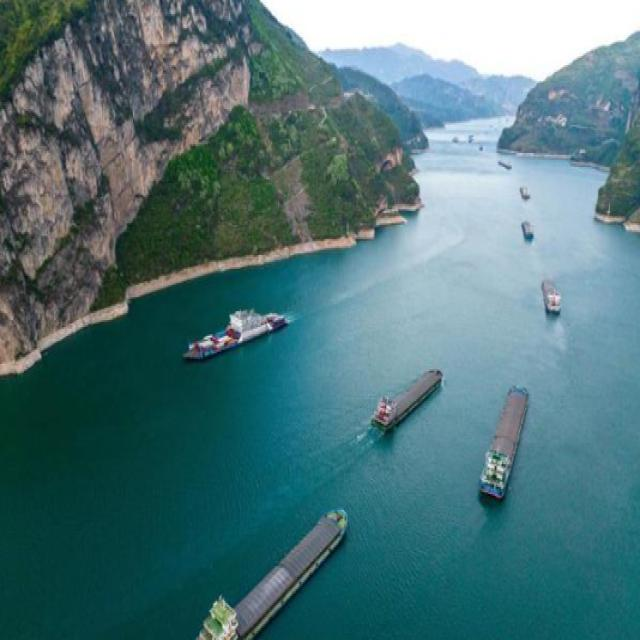cargoship: (184, 492, 353, 640), (476, 375, 530, 507), (182, 294, 290, 354), (366, 359, 448, 435), (541, 278, 567, 323), (518, 216, 536, 246)
